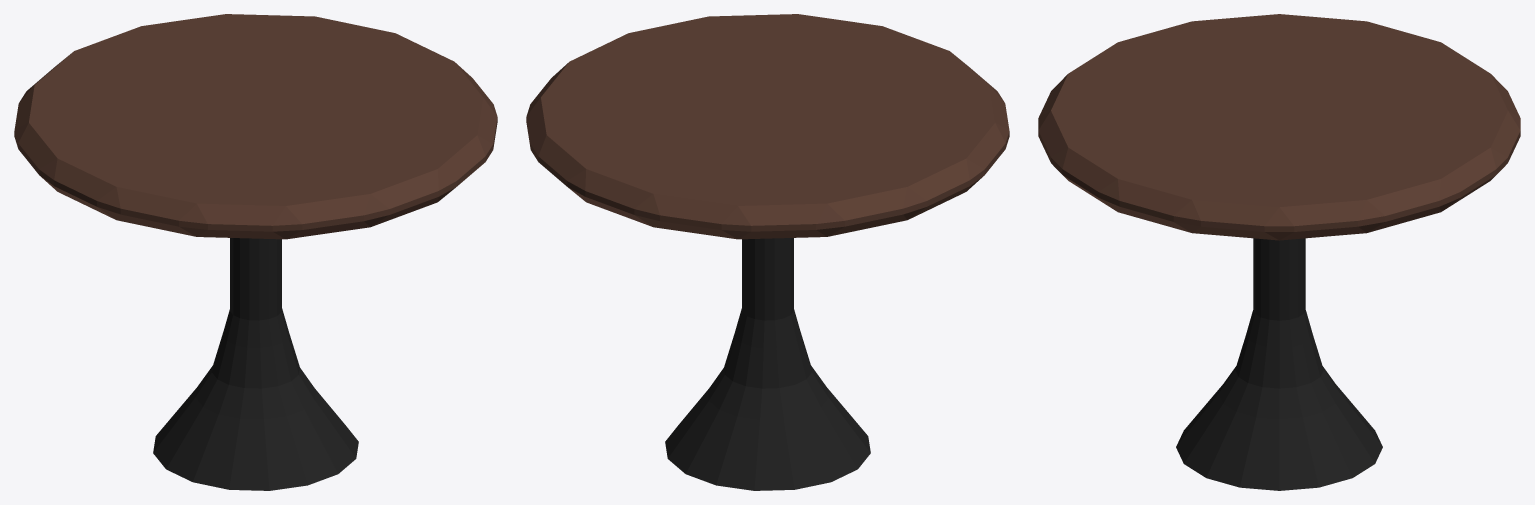
The model's file is table.fbx.
3 views of the same model, side by side, from view 1: azimuth 30°, elevation 25°; view 2: azimuth 150°, elevation 25°; view 3: azimuth 270°, elevation 25° (orthographic).
Visible parts, largest first — view 1: Cylinder, Cylinder.001; view 2: Cylinder, Cylinder.001; view 3: Cylinder, Cylinder.001.
Boxes of the visible parts, x1=… form: Cylinder: x1=14, y1=14, x2=497, y2=239; Cylinder.001: x1=153, y1=238, x2=358, y2=490; Cylinder: x1=526, y1=14, x2=1009, y2=239; Cylinder.001: x1=665, y1=238, x2=870, y2=490; Cylinder: x1=1038, y1=14, x2=1520, y2=240; Cylinder.001: x1=1176, y1=238, x2=1382, y2=490.
Size of the model in its own units: 198 by 152 by 198.
